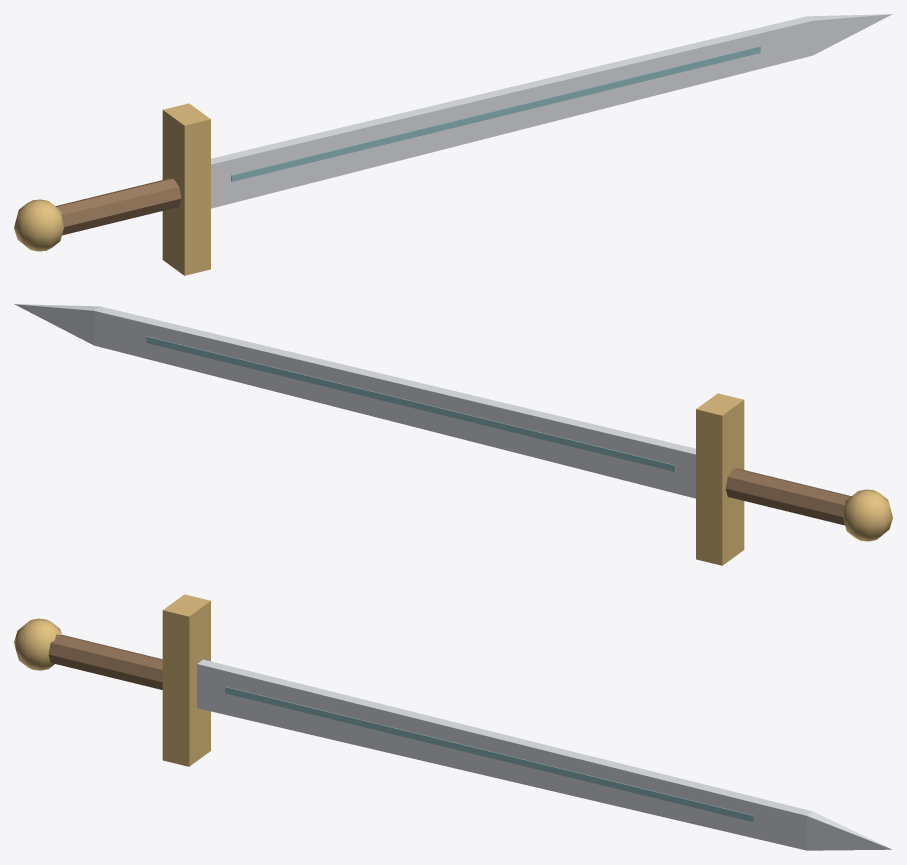
The model's file is SM_Blade.fbx.
3 views of the same model, one above another, from view 1: azimuth 30°, elevation 25°; view 2: azimuth 150°, elevation 25°; view 3: azimuth 330°, elevation 25° (orthographic).
Parts seen in each view (by area): view 1: SM_Blade; view 2: SM_Blade; view 3: SM_Blade.
Part boxes in pixels (<box>): SM_Blade: <box>14,14,892,275</box>; SM_Blade: <box>14,304,892,565</box>; SM_Blade: <box>14,594,891,850</box>.
Bounding box in the file's own units: 1.16 × 0.19 × 0.06.
